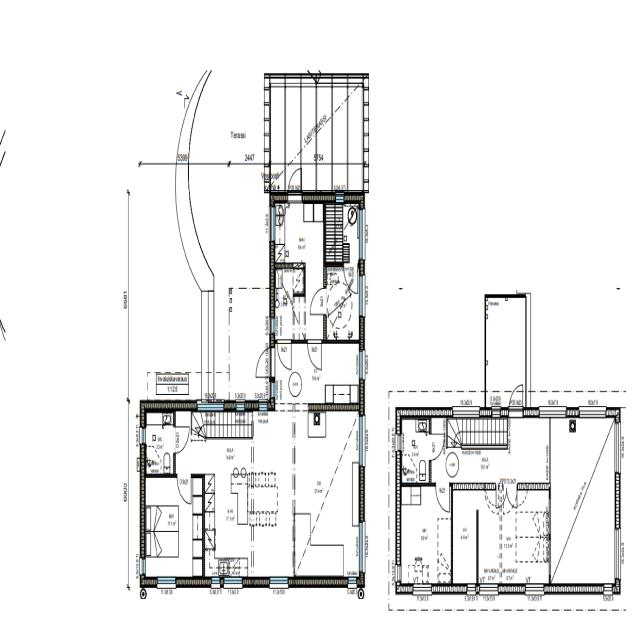door: (252, 346, 276, 378), (508, 378, 523, 418), (288, 164, 302, 203), (429, 433, 446, 461), (307, 340, 321, 370), (344, 262, 358, 292), (310, 289, 326, 314), (278, 340, 291, 369), (436, 483, 449, 511), (178, 474, 190, 504), (174, 427, 188, 452), (507, 483, 517, 511), (496, 483, 506, 511)
